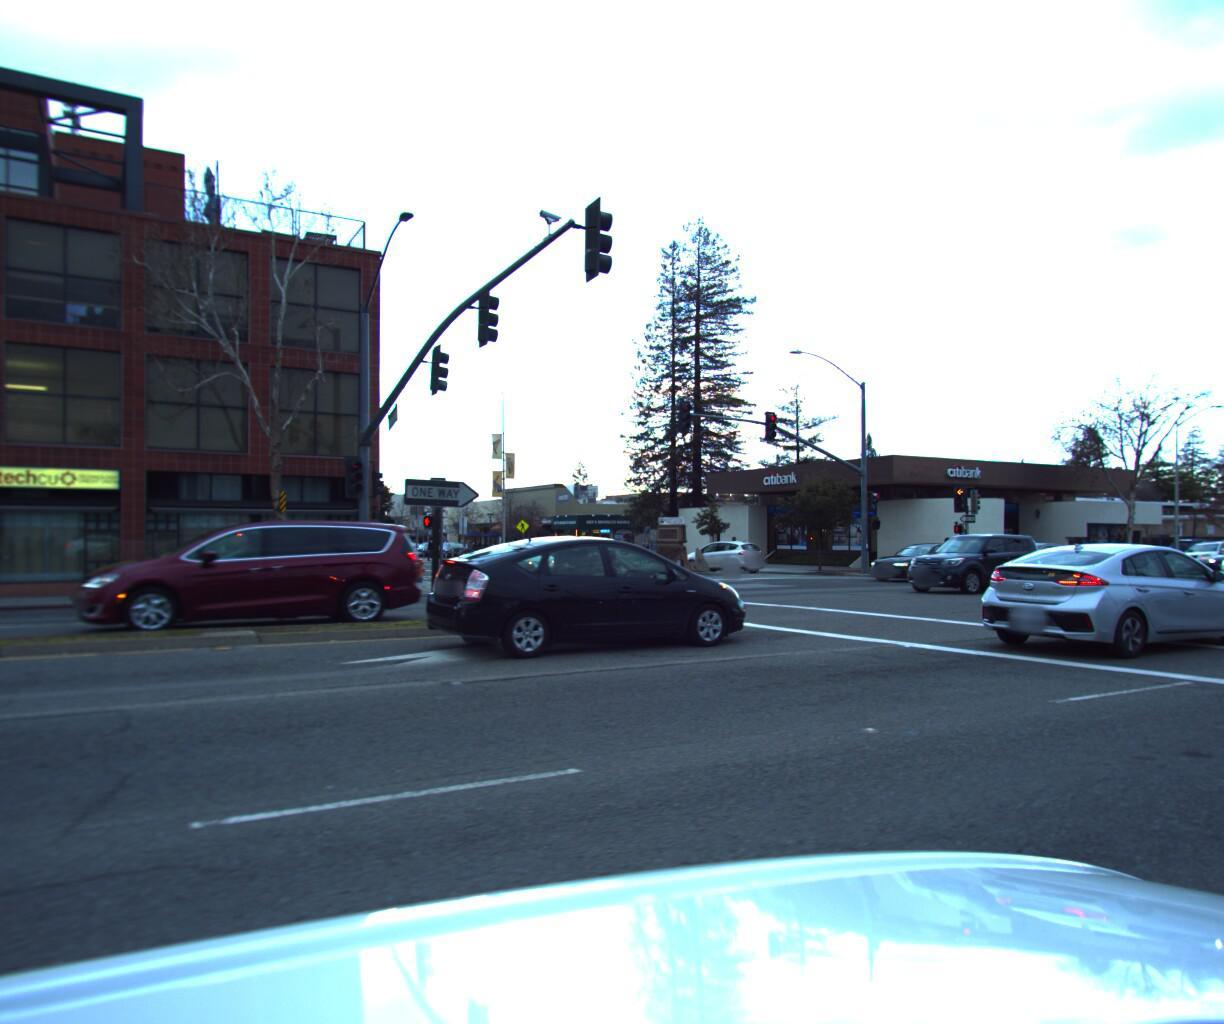car: (413, 529, 756, 666), (69, 517, 427, 645), (960, 535, 1224, 664), (893, 526, 1052, 591), (958, 539, 1090, 584), (867, 537, 991, 577), (673, 537, 772, 571), (1162, 534, 1224, 570), (1195, 536, 1224, 566), (449, 533, 490, 554), (430, 533, 469, 553), (1211, 532, 1224, 575)
